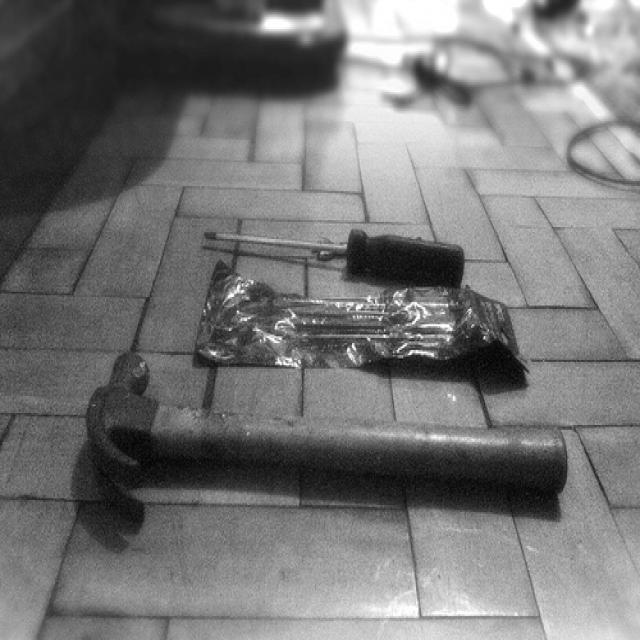hammer: (80, 344, 576, 544)
screwdriver: (198, 208, 478, 300)
